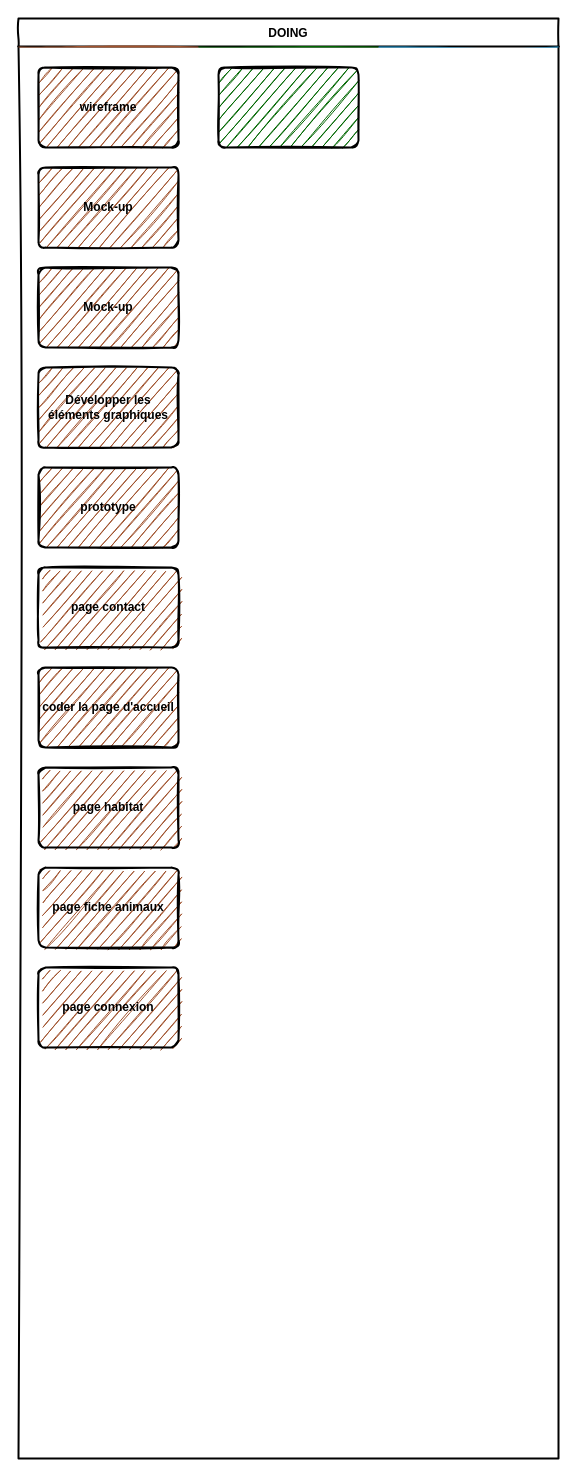
This 576x1476 diagram has some shape labels left out. Each missing label, with the box of its shape:
DONE: (378, 46, 558, 1458)
Kanban: (217, 66, 359, 148)
TO DO: (18, 46, 198, 1458)
